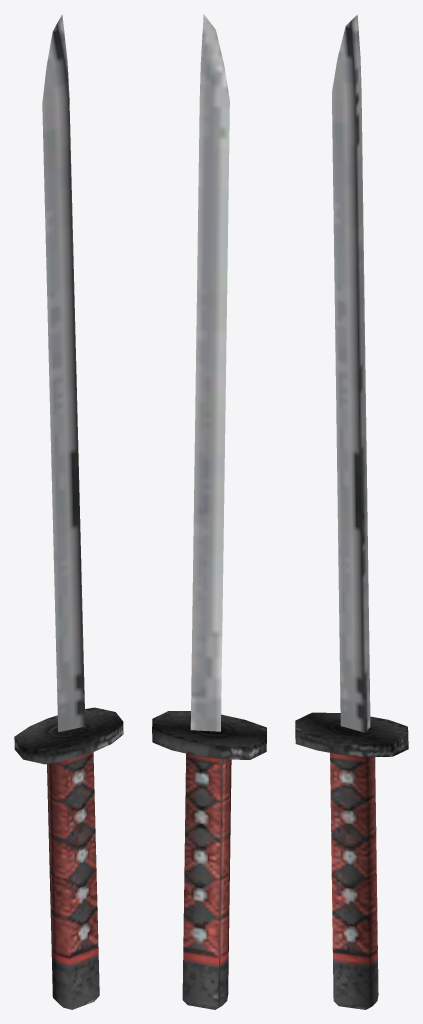
File: deadpool_sword.glb
The picture shows the model from 3 angles, left to right: view 1: azimuth 30°, elevation 25°; view 2: azimuth 150°, elevation 25°; view 3: azimuth 330°, elevation 25°; orthographic projection.
Visible parts, largest first — view 1: weapons/deadpool_sword_0; view 2: weapons/deadpool_sword_0; view 3: weapons/deadpool_sword_0.
Part boxes in pixels (x1=…): weapons/deadpool_sword_0: x1=14, y1=14, x2=123, y2=1009; weapons/deadpool_sword_0: x1=152, y1=14, x2=266, y2=1009; weapons/deadpool_sword_0: x1=295, y1=14, x2=408, y2=1009.
Size of the model in its own units: 0.2196 by 2 by 0.1326.
1 material, 1 textured.
